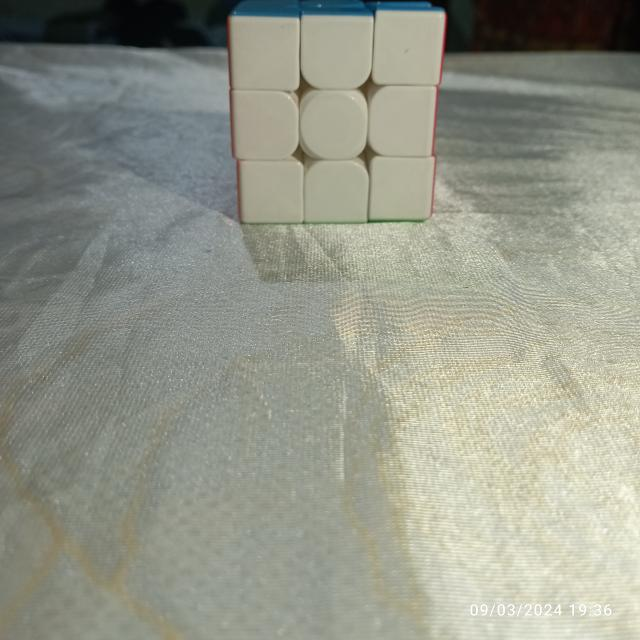Rub: (220, 0, 459, 228)
